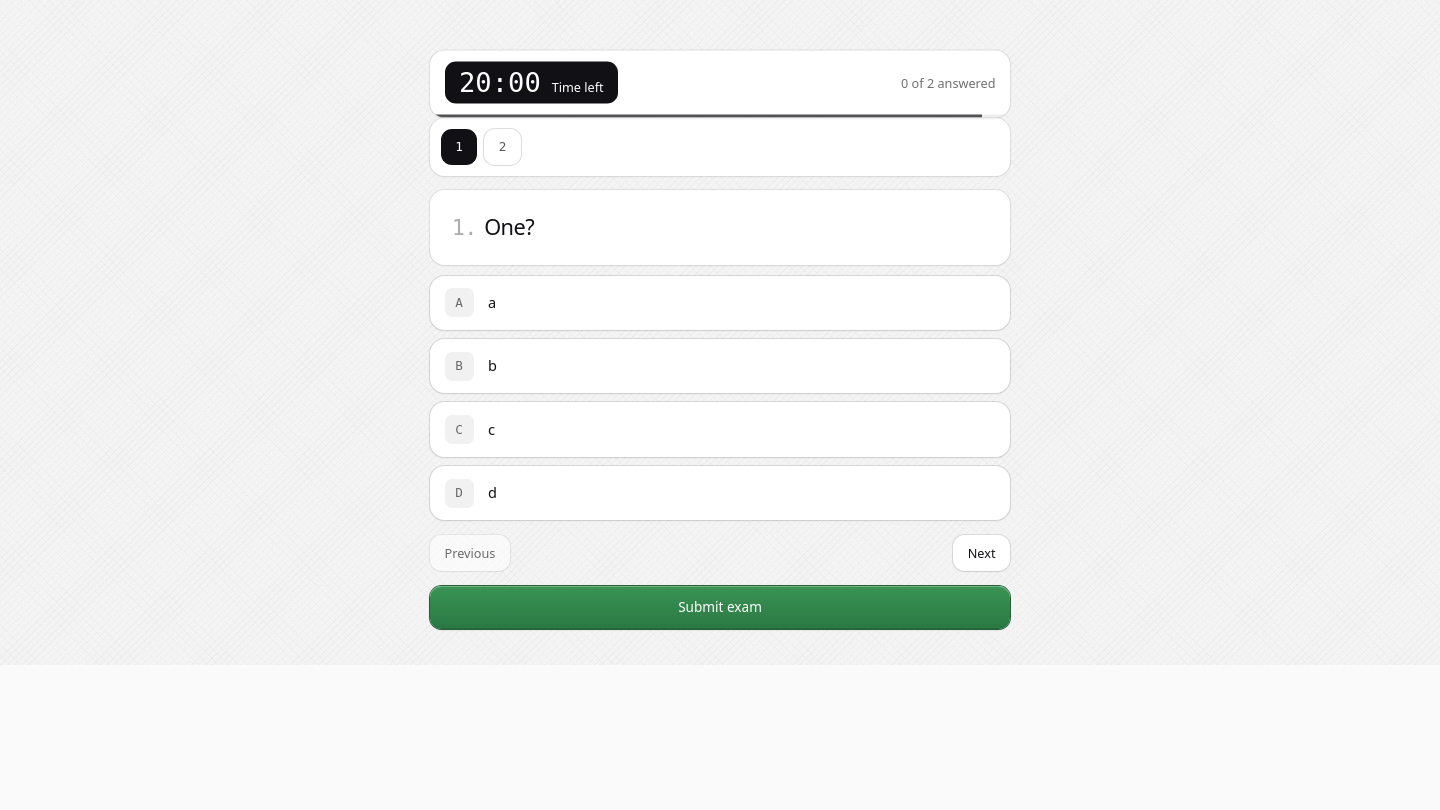
Test: ExamAttemptView answers while offline › keeps the answer and tries again when the server could not save it yet
What coordinates should you click on to do the following:
click the radio button labelled "A"
I would click on:
 (459, 303)
Its box is [430,276,1010,330].
Wait 3500 ms
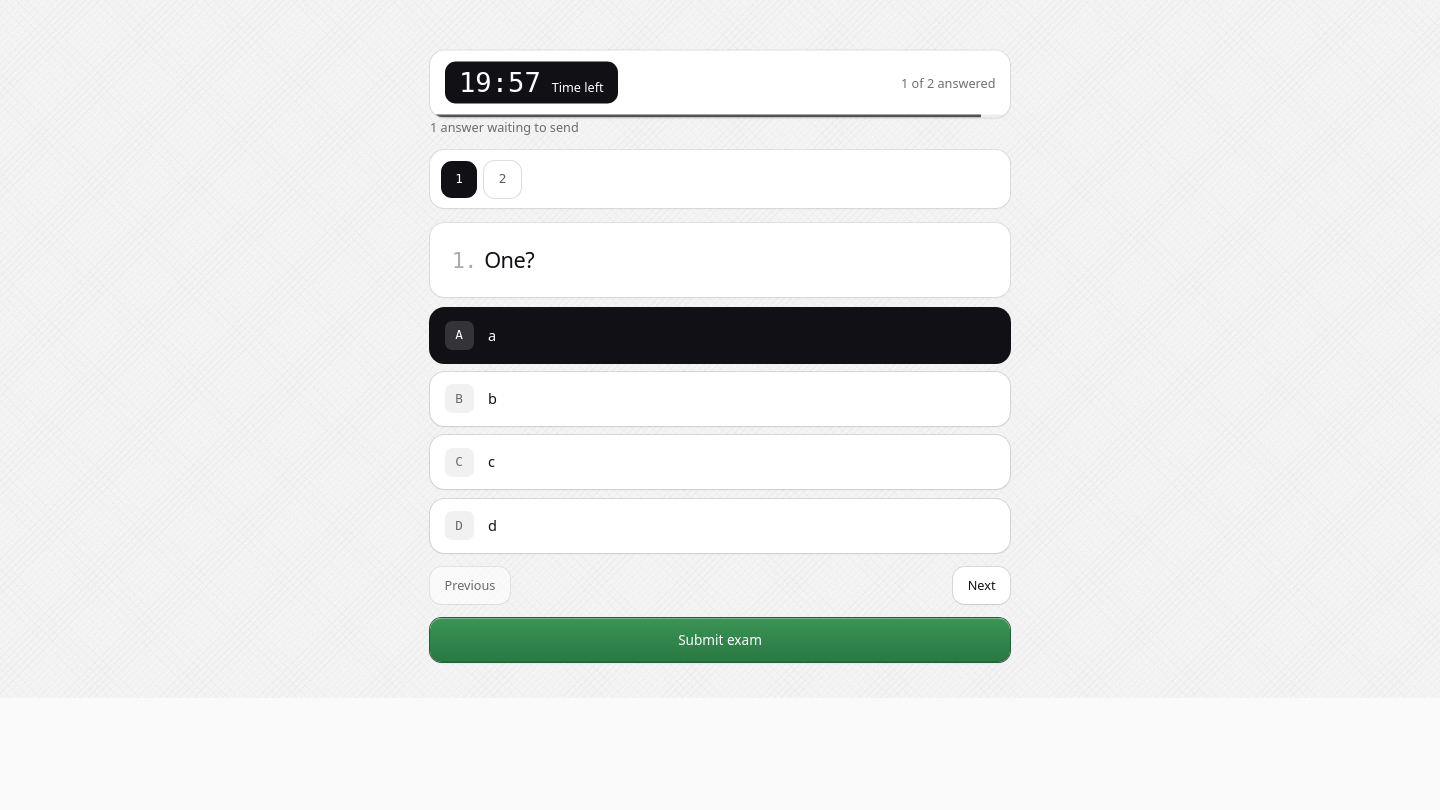
Check: the text "1 answer waiting to send" is shown, box [430,118,579,136]
